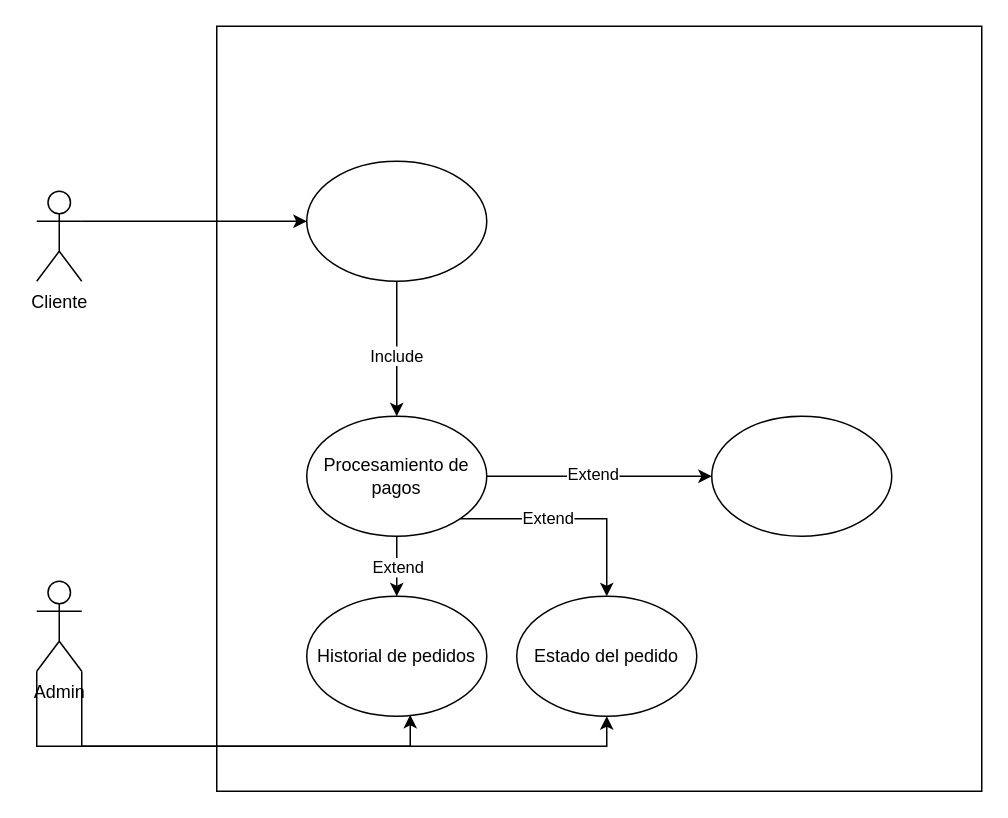
This 1008x818 diagram has some shape labels left out. Each missing label, with the centre of its shape:
"Carrito de compras" belongs at (x=396, y=220).
"Control de inventario automatico" belongs at (x=801, y=475).
